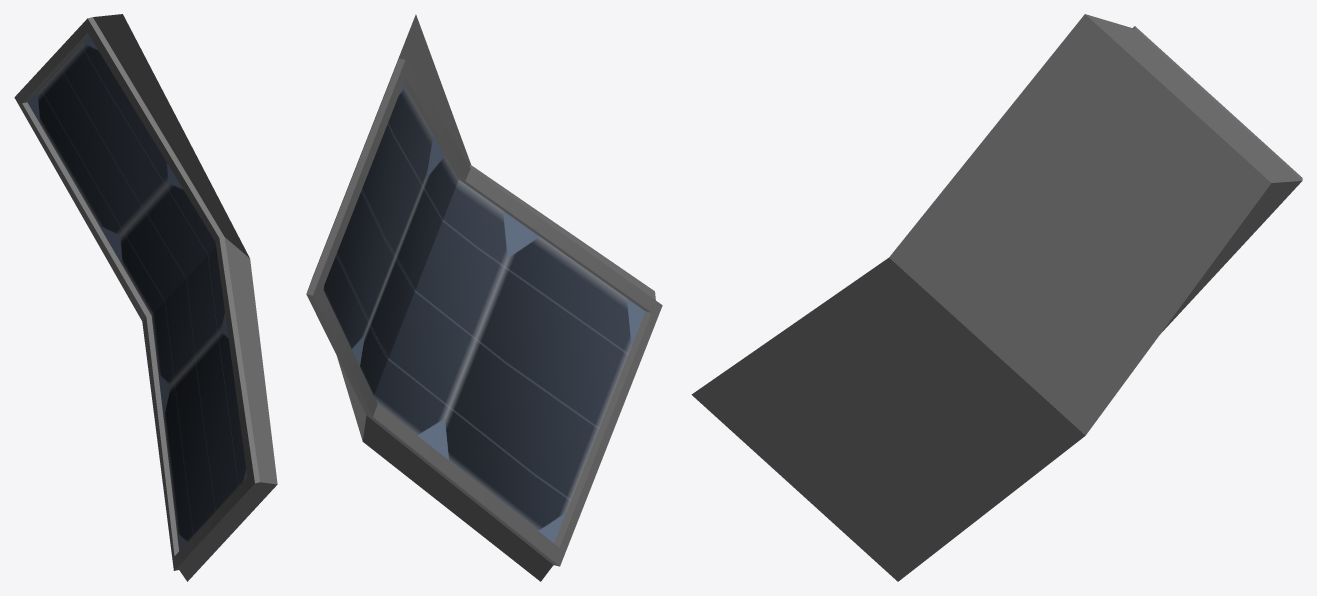
File: Scrap03.fbx
The picture shows the model from 3 angles, left to right: view 1: azimuth 30°, elevation 25°; view 2: azimuth 150°, elevation 25°; view 3: azimuth 270°, elevation 25°; orthographic projection. The views are drawn at different scales.
Parts seen in each view (by area): view 1: SatteliteLaser.002; view 2: SatteliteLaser.002; view 3: SatteliteLaser.002.
Boxes of the visible parts, x1,y1,x2,y2 form: SatteliteLaser.002: (14,14,277,581); SatteliteLaser.002: (306,14,662,581); SatteliteLaser.002: (691,14,1302,581).
Bounding box in the file's own units: 0.7698 × 5.07 × 4.86.
